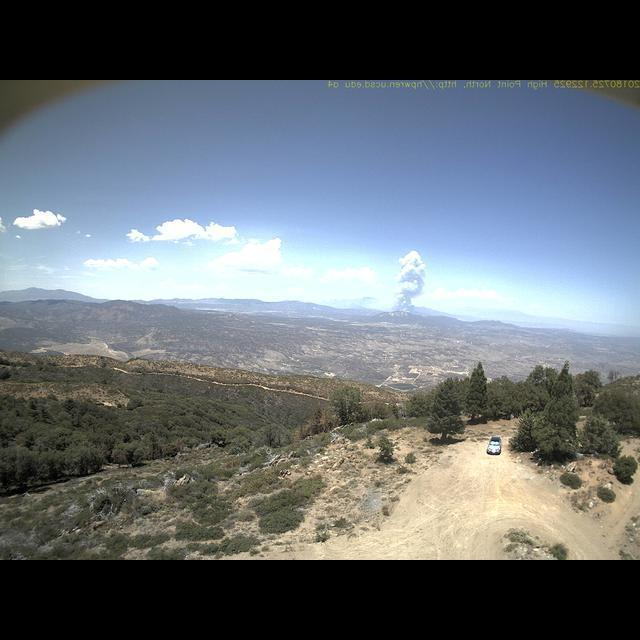Smoke: (386, 246, 431, 318)
